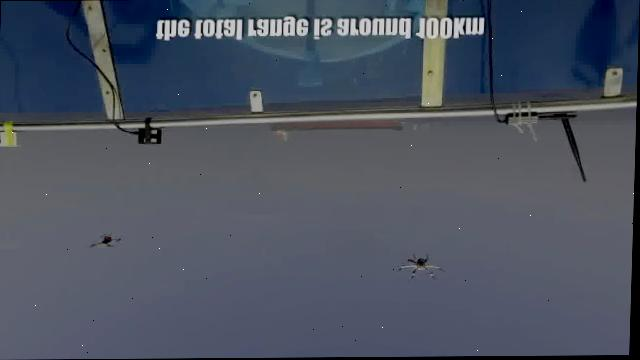drone: (395, 255, 446, 284), (88, 233, 125, 250)
